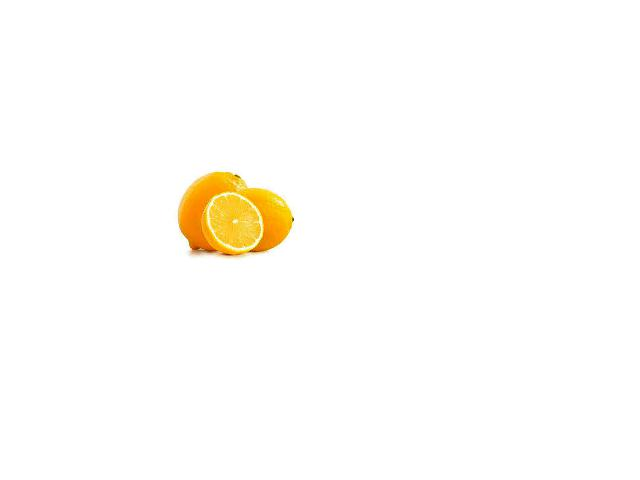lemon: (219, 186, 292, 253)
